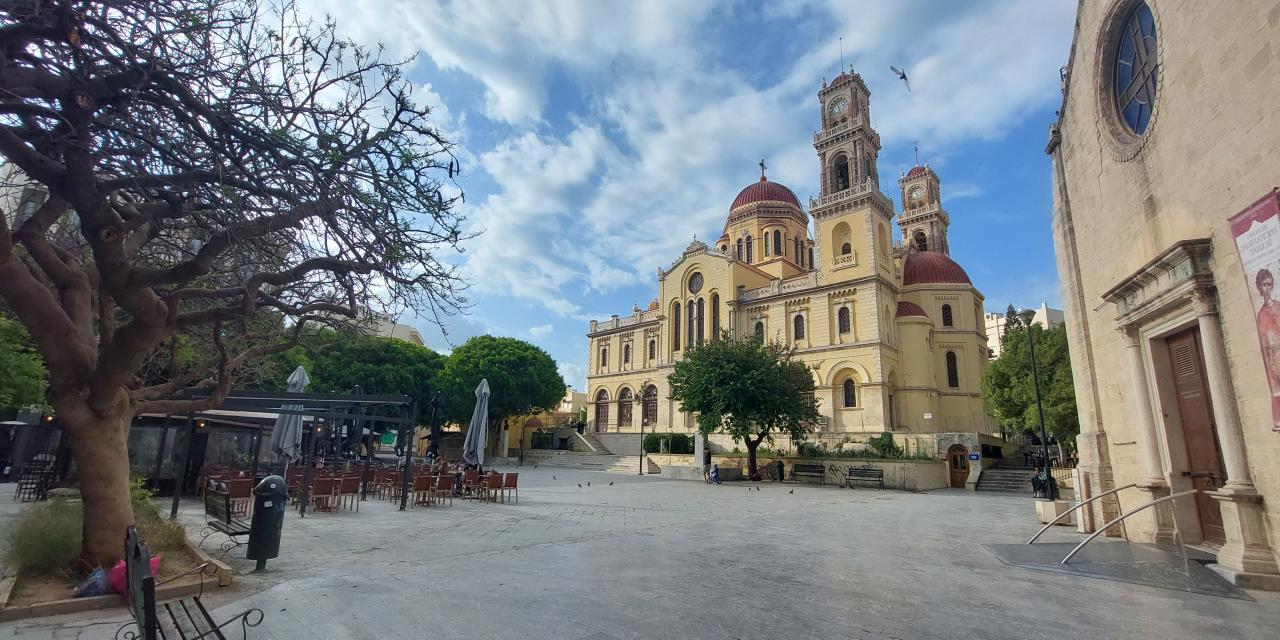Agios Minas: (584, 47, 1012, 486)
